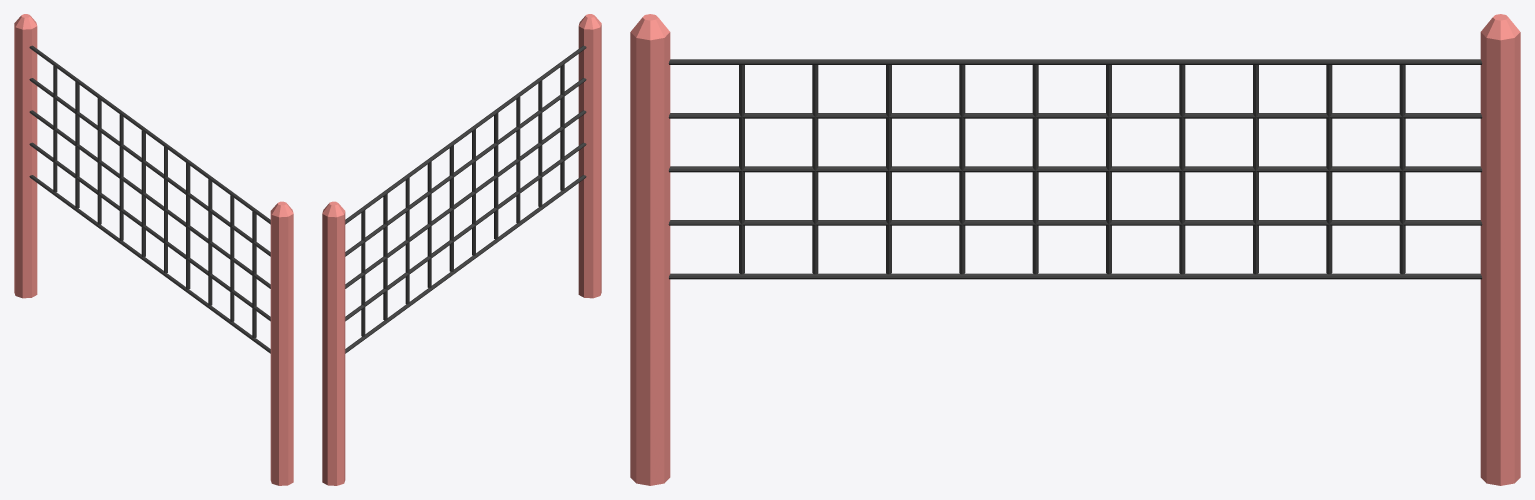
3 renders of one model, left to right at view 1: azimuth 30°, elevation 25°; view 2: azimuth 150°, elevation 25°; view 3: azimuth 270°, elevation 25°, orthographic. The views are drawn at different scales.
Visible parts, largest first — view 1: voleybol filesi; view 2: voleybol filesi; view 3: voleybol filesi.
Part boxes in pixels (x1,y1,x2,y2): voleybol filesi: (14, 14, 293, 485); voleybol filesi: (322, 14, 601, 485); voleybol filesi: (630, 14, 1520, 485).
Bounding box in the file's own units: 114 × 1450 × 2541.
